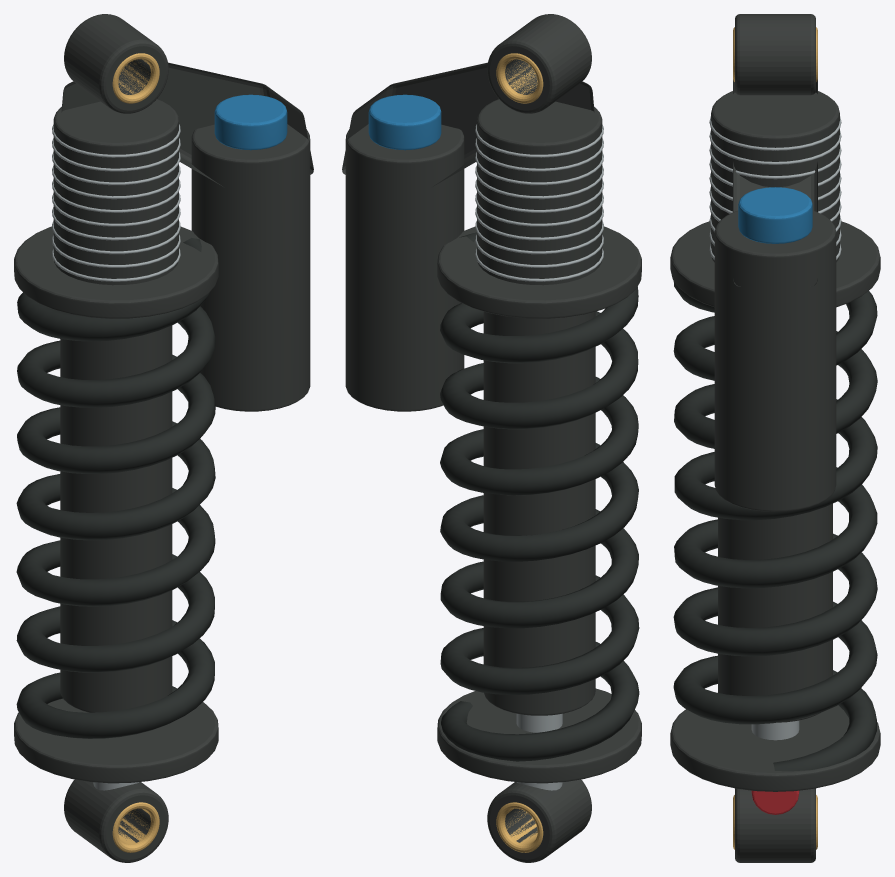
File: marzocchi-bomber-cr--6b881244.glb
3 renders of one model, left to right at view 1: azimuth 30°, elevation 25°; view 2: azimuth 150°, elevation 25°; view 3: azimuth 270°, elevation 25°, orthographic. The views are drawn at different scales.
Visible parts, largest first — view 1: marzocchi-bomber-cr--6b881244__link, marzocchi-bomber-cr--6b881244__coil, marzocchi-bomber-cr--6b881244__bolts, marzocchi-bomber-cr--6b881244__adjuster, marzocchi-bomber-cr--6b881244__stanchions; view 2: marzocchi-bomber-cr--6b881244__link, marzocchi-bomber-cr--6b881244__coil, marzocchi-bomber-cr--6b881244__bolts, marzocchi-bomber-cr--6b881244__adjuster, marzocchi-bomber-cr--6b881244__stanchions; view 3: marzocchi-bomber-cr--6b881244__link, marzocchi-bomber-cr--6b881244__coil, marzocchi-bomber-cr--6b881244__adjuster, marzocchi-bomber-cr--6b881244__bolts, marzocchi-bomber-cr--6b881244__rebound, marzocchi-bomber-cr--6b881244__stanchions.
Boxes of the visible parts, <box> form: marzocchi-bomber-cr--6b881244__link: <box>14,14,313,862</box>; marzocchi-bomber-cr--6b881244__coil: <box>16,237,215,738</box>; marzocchi-bomber-cr--6b881244__bolts: <box>52,124,180,790</box>; marzocchi-bomber-cr--6b881244__adjuster: <box>214,94,287,150</box>; marzocchi-bomber-cr--6b881244__stanchions: <box>112,53,159,852</box>; marzocchi-bomber-cr--6b881244__link: <box>342,14,641,862</box>; marzocchi-bomber-cr--6b881244__coil: <box>440,232,639,761</box>; marzocchi-bomber-cr--6b881244__bolts: <box>475,124,603,790</box>; marzocchi-bomber-cr--6b881244__adjuster: <box>368,94,441,150</box>; marzocchi-bomber-cr--6b881244__stanchions: <box>496,53,543,852</box>; marzocchi-bomber-cr--6b881244__link: <box>670,14,880,862</box>; marzocchi-bomber-cr--6b881244__coil: <box>673,281,877,771</box>; marzocchi-bomber-cr--6b881244__adjuster: <box>738,187,812,243</box>; marzocchi-bomber-cr--6b881244__bolts: <box>709,116,841,740</box>; marzocchi-bomber-cr--6b881244__rebound: <box>751,790,799,814</box>; marzocchi-bomber-cr--6b881244__stanchions: <box>733,27,817,849</box>.
Bounding box in the file's own units: 0.096 × 0.274 × 0.062.
